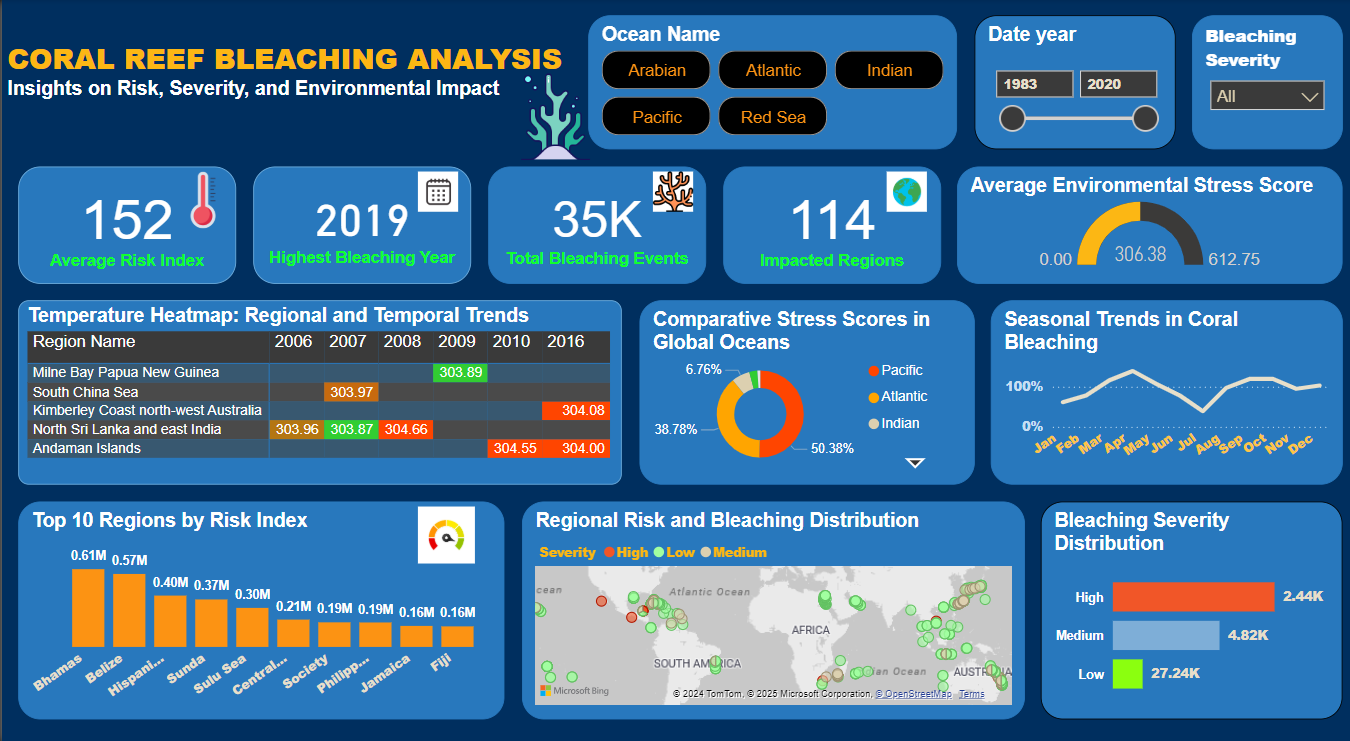

Layout of this report page (visuals, bound fields, positions):
{"tool":"powerbi","page":{"name":"Page 1","canvas":[1287,712],"ordinal":0},"visuals":[{"type":"textbox","box":[0,32,544,128],"z":0},{"type":"card","fields":{"Values":["coral_cleaned.Highest Bleaching Year"]},"box":[240,160,208,112],"z":1000},{"type":"clusteredBarChart","title":" Bleaching Severity Distribution","fields":{"Category":["coral_cleaned.Bleaching_Severity"],"Y":["Sum(coral_cleaned.Percent_Bleaching)"]},"box":[992,480,288,208],"z":2000},{"type":"slicer","title":"Date year","fields":{"Values":["coral_cleaned.Date_Year"]},"box":[928,16,192,128],"z":3000},{"type":"slicer","title":"Bleaching Severity","fields":{"Values":["coral_cleaned.Bleaching_Severity"]},"box":[1136,16,144,128],"z":4000},{"type":"card","fields":{"Values":["Avg(coral_cleaned.Risk_Index)"]},"box":[16,160,208,112],"z":5000},{"type":"card","fields":{"Values":["coral_cleaned.Total_Bleaching_Events"]},"box":[464,160,208,112],"z":6000},{"type":"card","fields":{"Values":["coral_cleaned.Total_Impacted_Regions"]},"box":[688,160,208,112],"z":7000},{"type":"columnChart","title":"Top 10 Regions by Risk Index ","fields":{"Y":["Sum(coral_cleaned.Risk_Index)"],"Category":["coral_cleaned.newregion"]},"box":[16,480,464,208],"z":8000},{"type":"advancedSlicerVisual","title":"Ocean Name","fields":{"Values":["coral_cleaned.Ocean name2"]},"box":[560,16,352,128],"z":9000},{"type":"lineChart","title":"Seasonal Trends in Coral Bleaching","fields":{"Y":["Sum(coral_cleaned.Percent_Bleaching)"],"Category":["coral_cleaned.Month Name"]},"box":[944,288,336,176],"z":10000},{"type":"image","box":[384,480,80,64],"z":11000},{"type":"donutChart","title":"Comparative Stress Scores in Global Oceans","fields":{"Y":["Sum(coral_cleaned.Environmental_Stress_Score)"],"Category":["coral_cleaned.Ocean_Name"]},"box":[608,288,320,176],"z":12000},{"type":"map","title":"Regional Risk and Bleaching Distribution","fields":{"Y":["coral_cleaned.Latitude_Degrees"],"X":["coral_cleaned.Longitude_Degrees"],"Series":["coral_cleaned.Bleaching_Severity"]},"box":[496,480,480,208],"z":13000},{"type":"pivotTable","title":"Temperature Heatmap: Regional and Temporal Trends","fields":{"Rows":["coral_cleaned.Ecoregion_Name"],"Columns":["coral_cleaned.Date_Year"],"Values":["coral_cleaned.Avg_Temperature"]},"box":[16,288,576,176],"z":14000},{"type":"gauge","fields":{"Y":["Avg(coral_cleaned.Environmental_Stress_Score)"]},"box":[912,160,368,112],"z":15000},{"type":"image","box":[416,64,224,96],"z":16000},{"type":"image","box":[384,160,64,48],"z":17000},{"type":"image","box":[608,160,64,48],"z":18000},{"type":"image","box":[160,160,64,64],"z":18002},{"type":"image","box":[832,160,64,48],"z":18003}]}

Visuals, with their boxes in screenshot pixels (x1, y1, x2, y2), scaled from the page's 1287x712 canvas onto the 1350x741 screenshot:
textbox: Rect(0, 33, 571, 167)
card - coral_cleaned.Highest Bleaching Year: Rect(252, 167, 470, 283)
" Bleaching Severity Distribution" clusteredBarChart: Rect(1041, 500, 1343, 716)
"Date year" slicer: Rect(973, 17, 1175, 150)
"Bleaching Severity" slicer: Rect(1192, 17, 1343, 150)
card - Avg(coral_cleaned.Risk_Index): Rect(17, 167, 235, 283)
card - coral_cleaned.Total_Bleaching_Events: Rect(487, 167, 705, 283)
card - coral_cleaned.Total_Impacted_Regions: Rect(722, 167, 940, 283)
"Top 10 Regions by Risk Index " columnChart: Rect(17, 500, 503, 716)
"Ocean Name" advancedSlicerVisual: Rect(587, 17, 957, 150)
"Seasonal Trends in Coral Bleaching" lineChart: Rect(990, 300, 1343, 483)
image: Rect(403, 500, 487, 566)
"Comparative Stress Scores in Global Oceans" donutChart: Rect(638, 300, 973, 483)
"Regional Risk and Bleaching Distribution" map: Rect(520, 500, 1024, 716)
"Temperature Heatmap: Regional and Temporal Trends" pivotTable: Rect(17, 300, 621, 483)
gauge - Avg(coral_cleaned.Environmental_Stress_Score): Rect(957, 167, 1343, 283)
image: Rect(436, 67, 671, 167)
image: Rect(403, 167, 470, 216)
image: Rect(638, 167, 705, 216)
image: Rect(168, 167, 235, 233)
image: Rect(873, 167, 940, 216)
